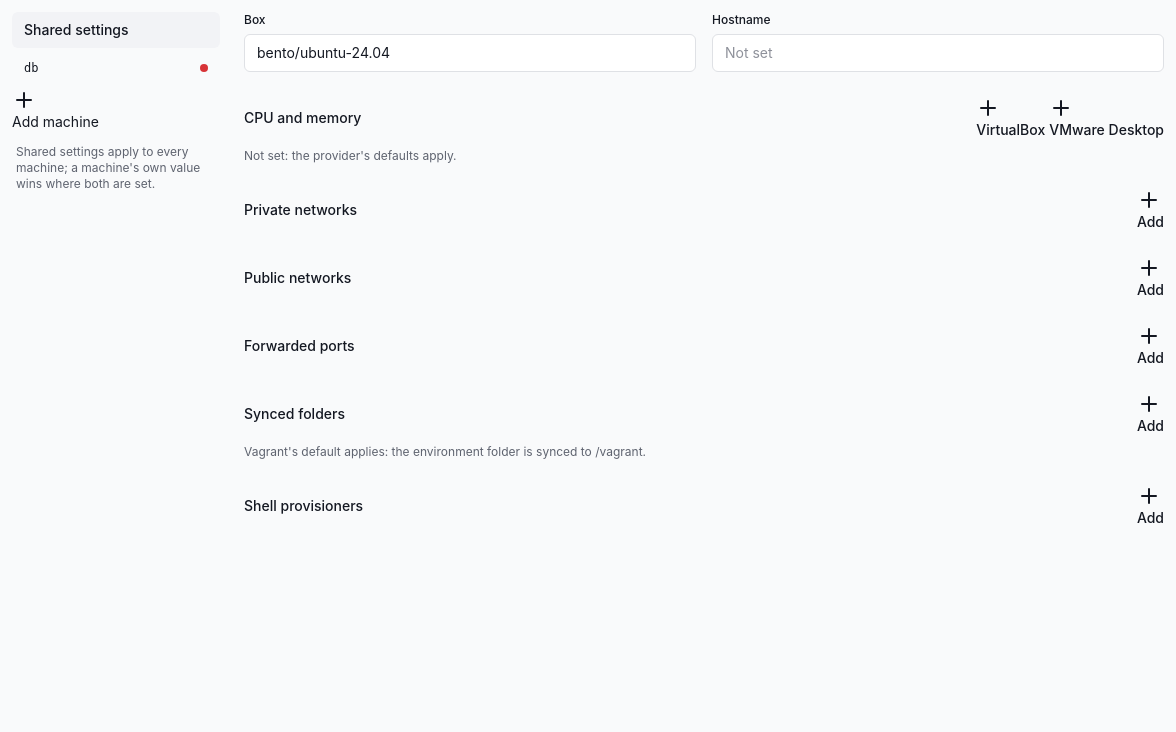
Test: VisualEditor › shows field errors next to inputs and marks machines with problems
This screenshot has width=1176, height=732.
expect the element named "has problems" is shown: met, box [200, 64, 208, 72]
Click the button "db" at x=116, y=68, box [12, 52, 220, 84]
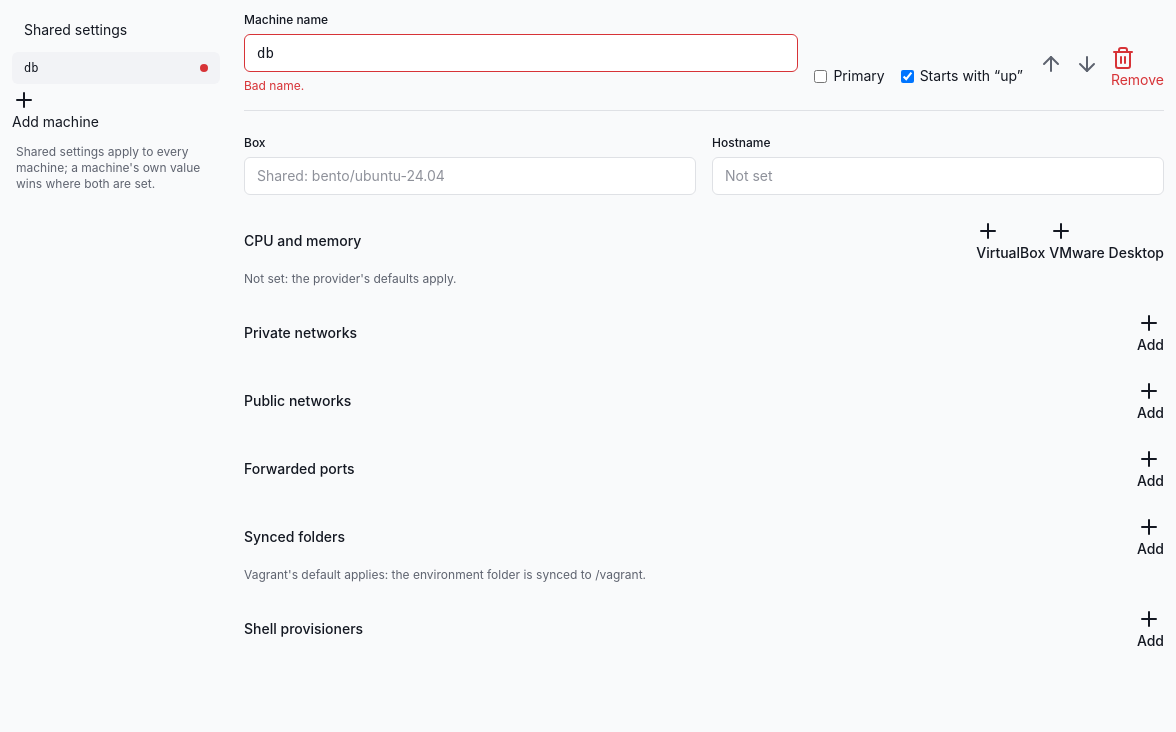
expect the text "Bad name." is shown: met, box [244, 78, 304, 93]
